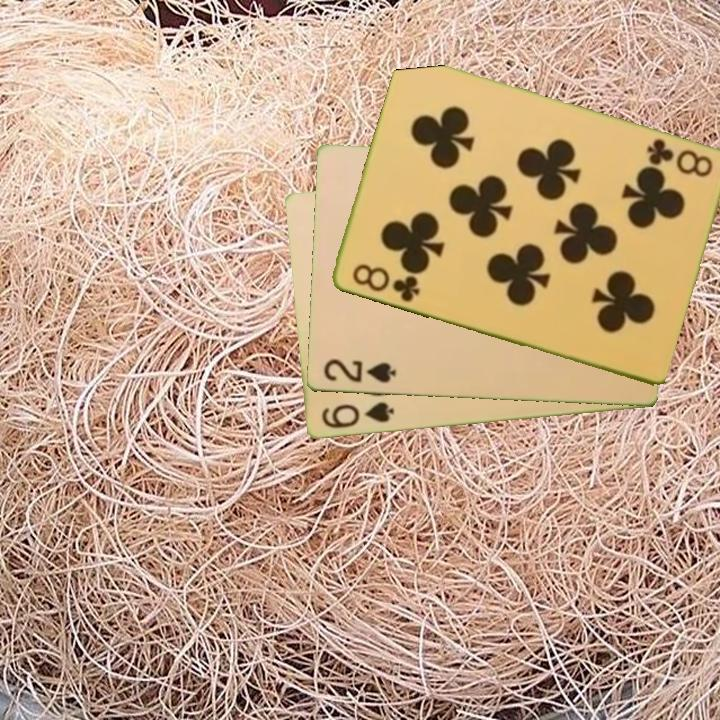2s: (319, 356, 399, 386)
6s: (317, 399, 397, 432)
8c: (348, 260, 422, 306), (642, 135, 716, 181)
